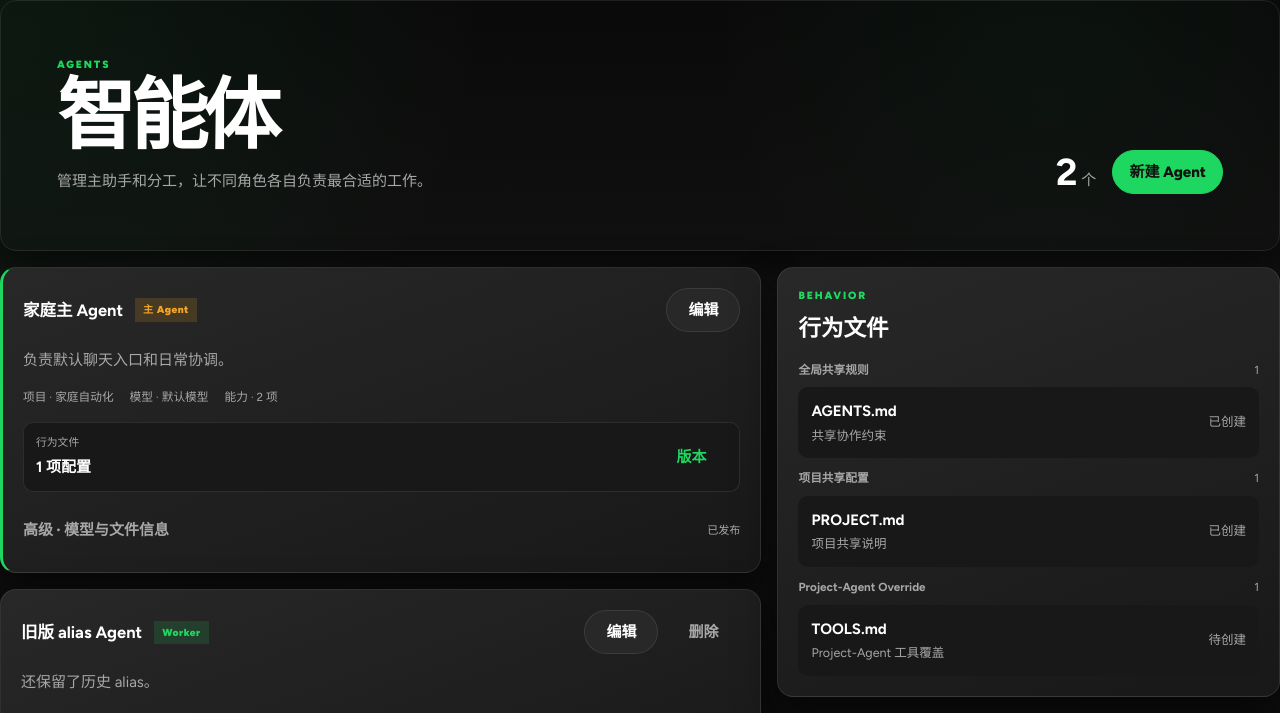
Test: AgentCenter › 当 Agent 当前 alias 已失效时会明确提示修复
This screenshot has width=1280, height=713.
Expected: the text "旧版 alias Agent" is shown, [21,622,142,642]
Click the button "编辑" in the row of "Worker": x=621, y=632 [584,610,658,654]
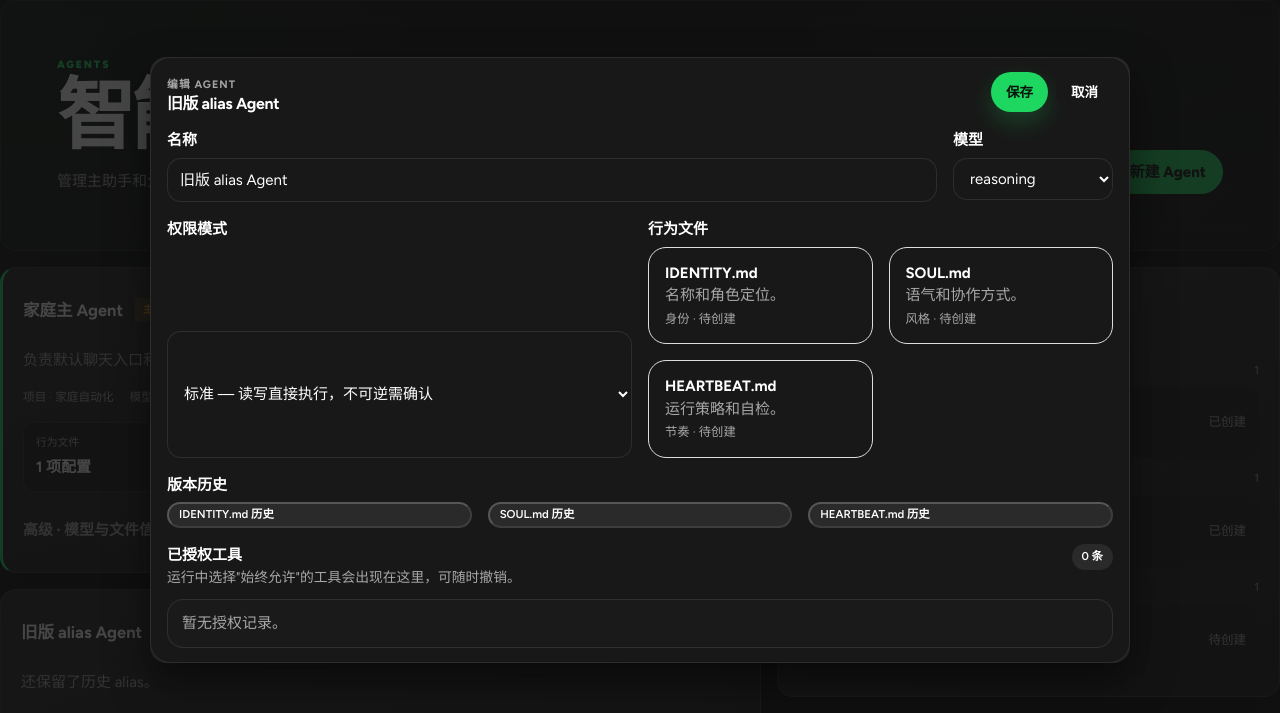
Now the text "模型" is shown, box [953,129,1113,200]
